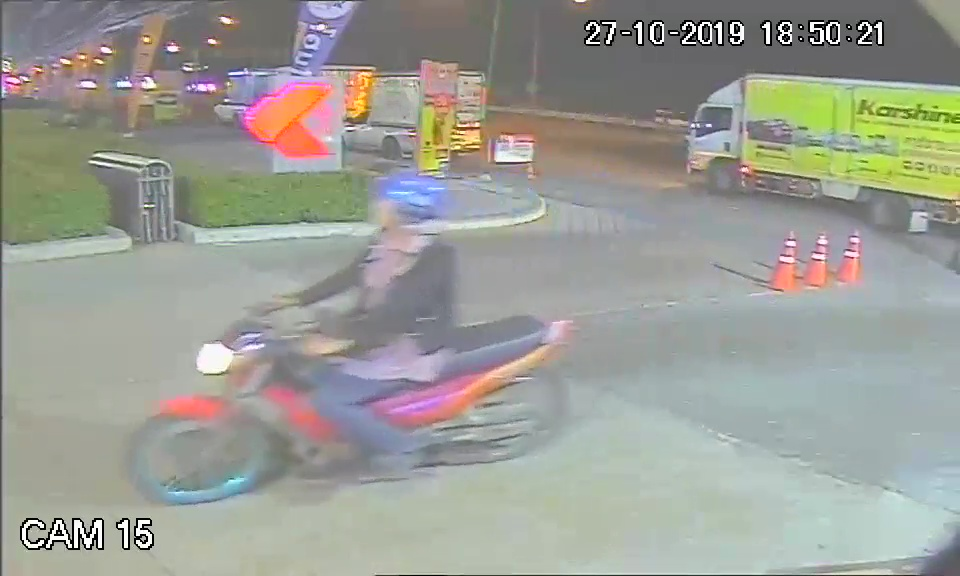motorcycle: (116, 312, 575, 506)
